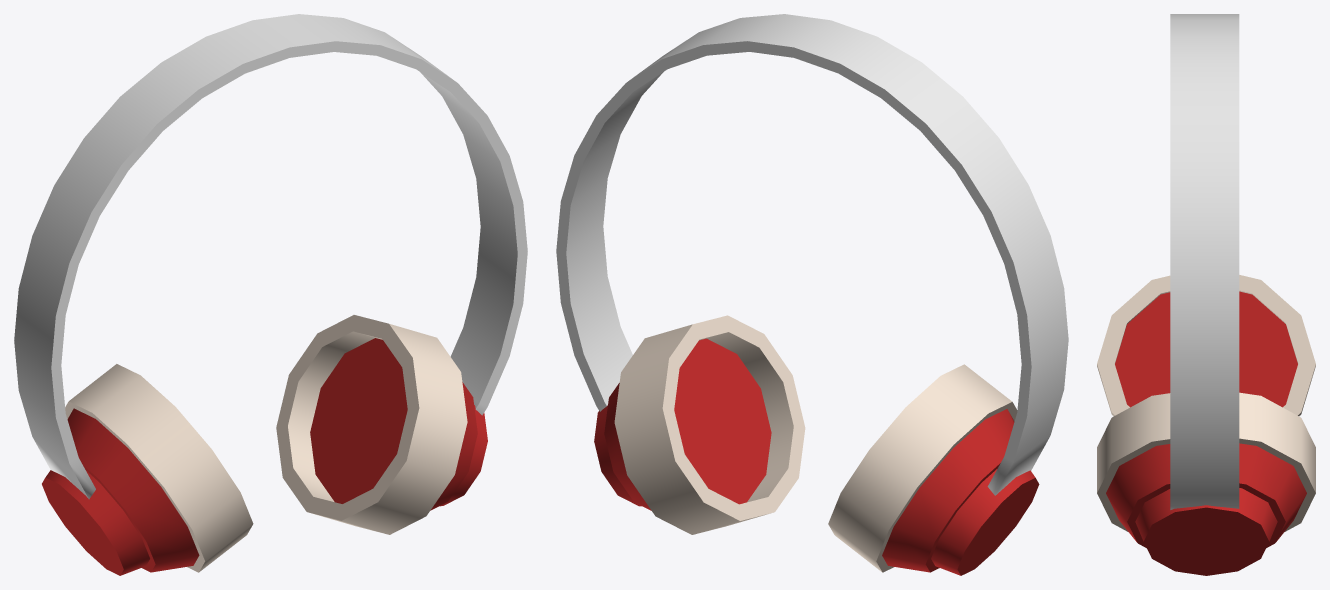
File: FoneOuvido3.fbx
3 views of the same model, side by side, from view 1: azimuth 30°, elevation 25°; view 2: azimuth 150°, elevation 25°; view 3: azimuth 270°, elevation 25° (orthographic). The views are drawn at different scales.
Visible parts, largest first — view 1: FoneOuvido; view 2: FoneOuvido; view 3: FoneOuvido.
Boxes of the visible parts, x1,y1,x2,y2 form: FoneOuvido: [14, 14, 527, 575]; FoneOuvido: [556, 14, 1068, 575]; FoneOuvido: [1097, 14, 1315, 575].
Size of the model in its own units: 44.35 by 45.67 by 18.98.
Materials: 1 (1 with a texture image).
